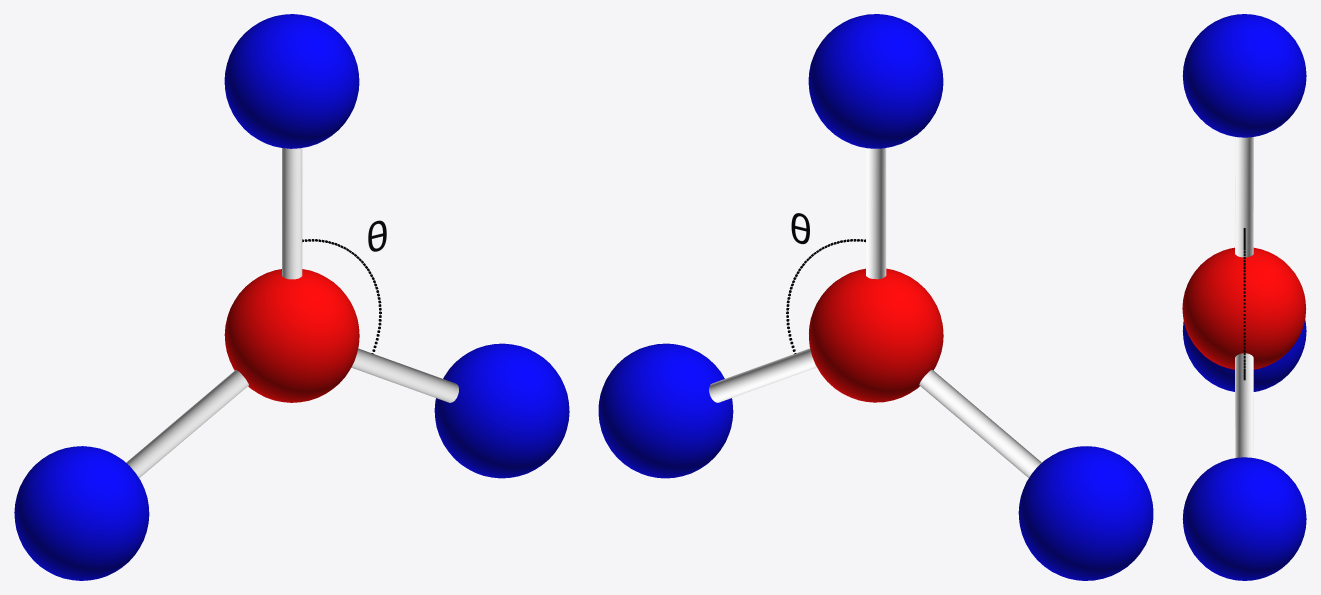
The model's file is trigonal_planar.glb.
3 renders of one model, left to right at view 1: azimuth 30°, elevation 25°; view 2: azimuth 150°, elevation 25°; view 3: azimuth 270°, elevation 25°, orthographic. The views are drawn at different scales.
Visible parts, largest first — view 1: trigonal_planar; view 2: trigonal_planar; view 3: trigonal_planar, for trig.
Boxes of the visible parts, <box> form: trigonal_planar: <box>14,14,569,580</box>; trigonal_planar: <box>598,14,1153,580</box>; trigonal_planar: <box>1182,14,1306,580</box>; for trig: <box>1243,228,1245,380</box>.
Bounding box in the file's own units: 3.03 × 2.71 × 0.6619.
Materials: 5 (1 with a texture image).
